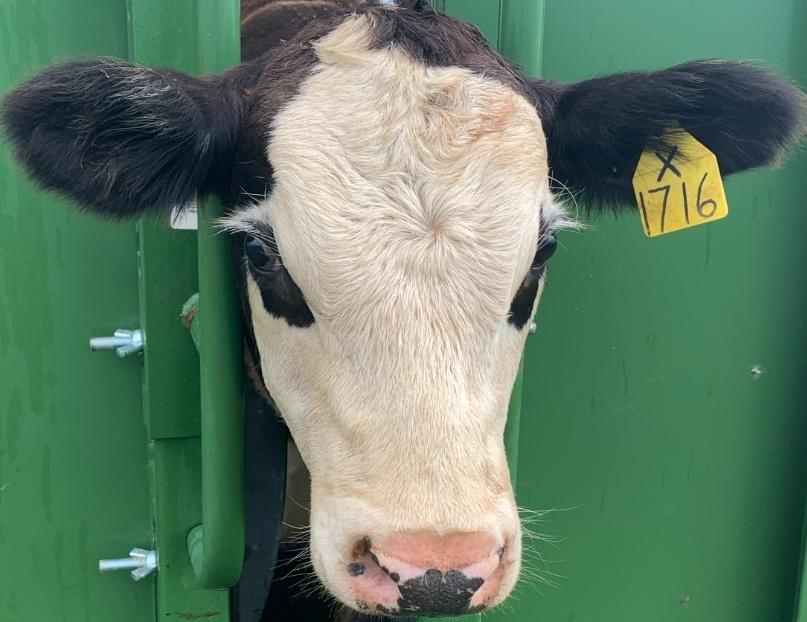muzzles: (307, 515, 529, 617)
